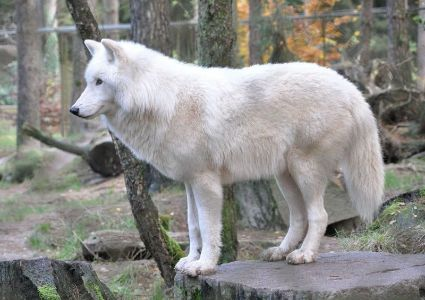wolf: (67, 34, 388, 279)
